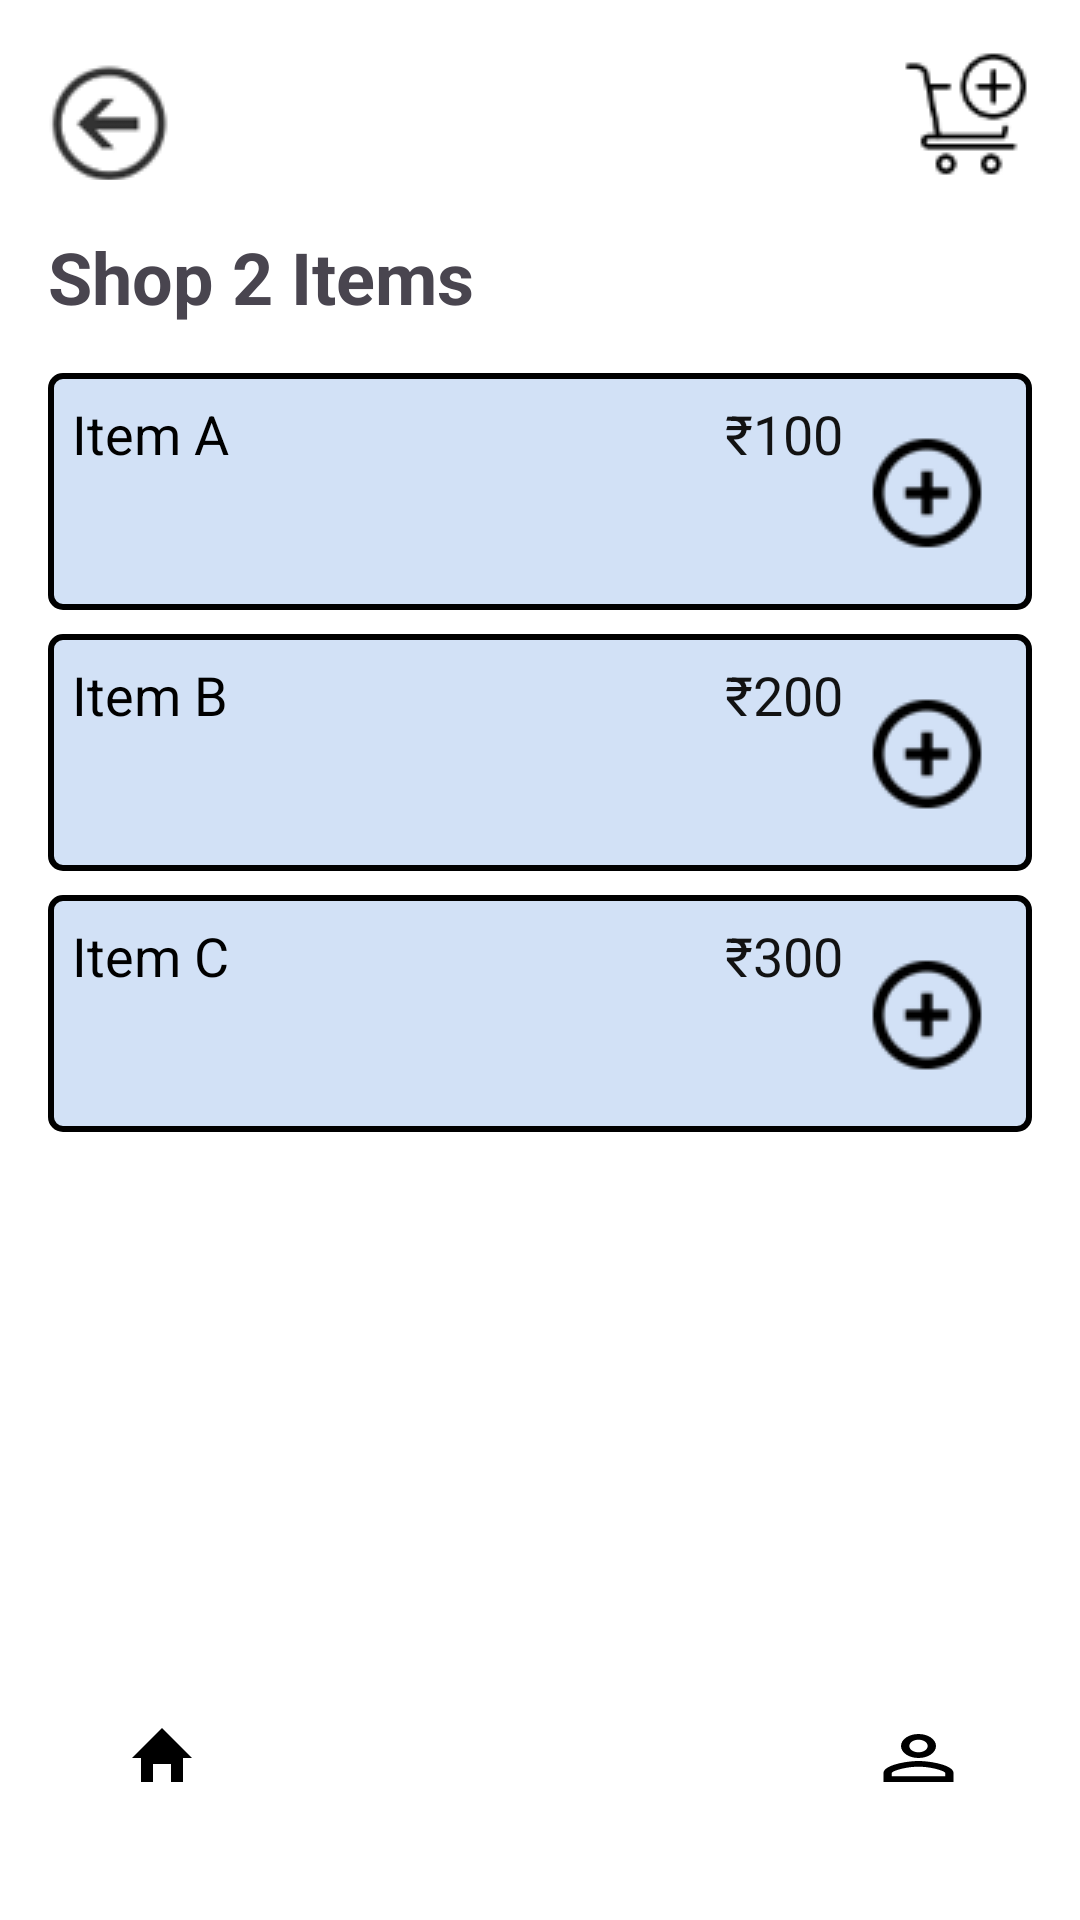

Named icons in this screenshot (1080 x 1920) and their centers, point (x, y):
Add to Cart: point (966, 114)
Back: point (110, 122)
Home: point (162, 1755)
User Account: point (918, 1758)
